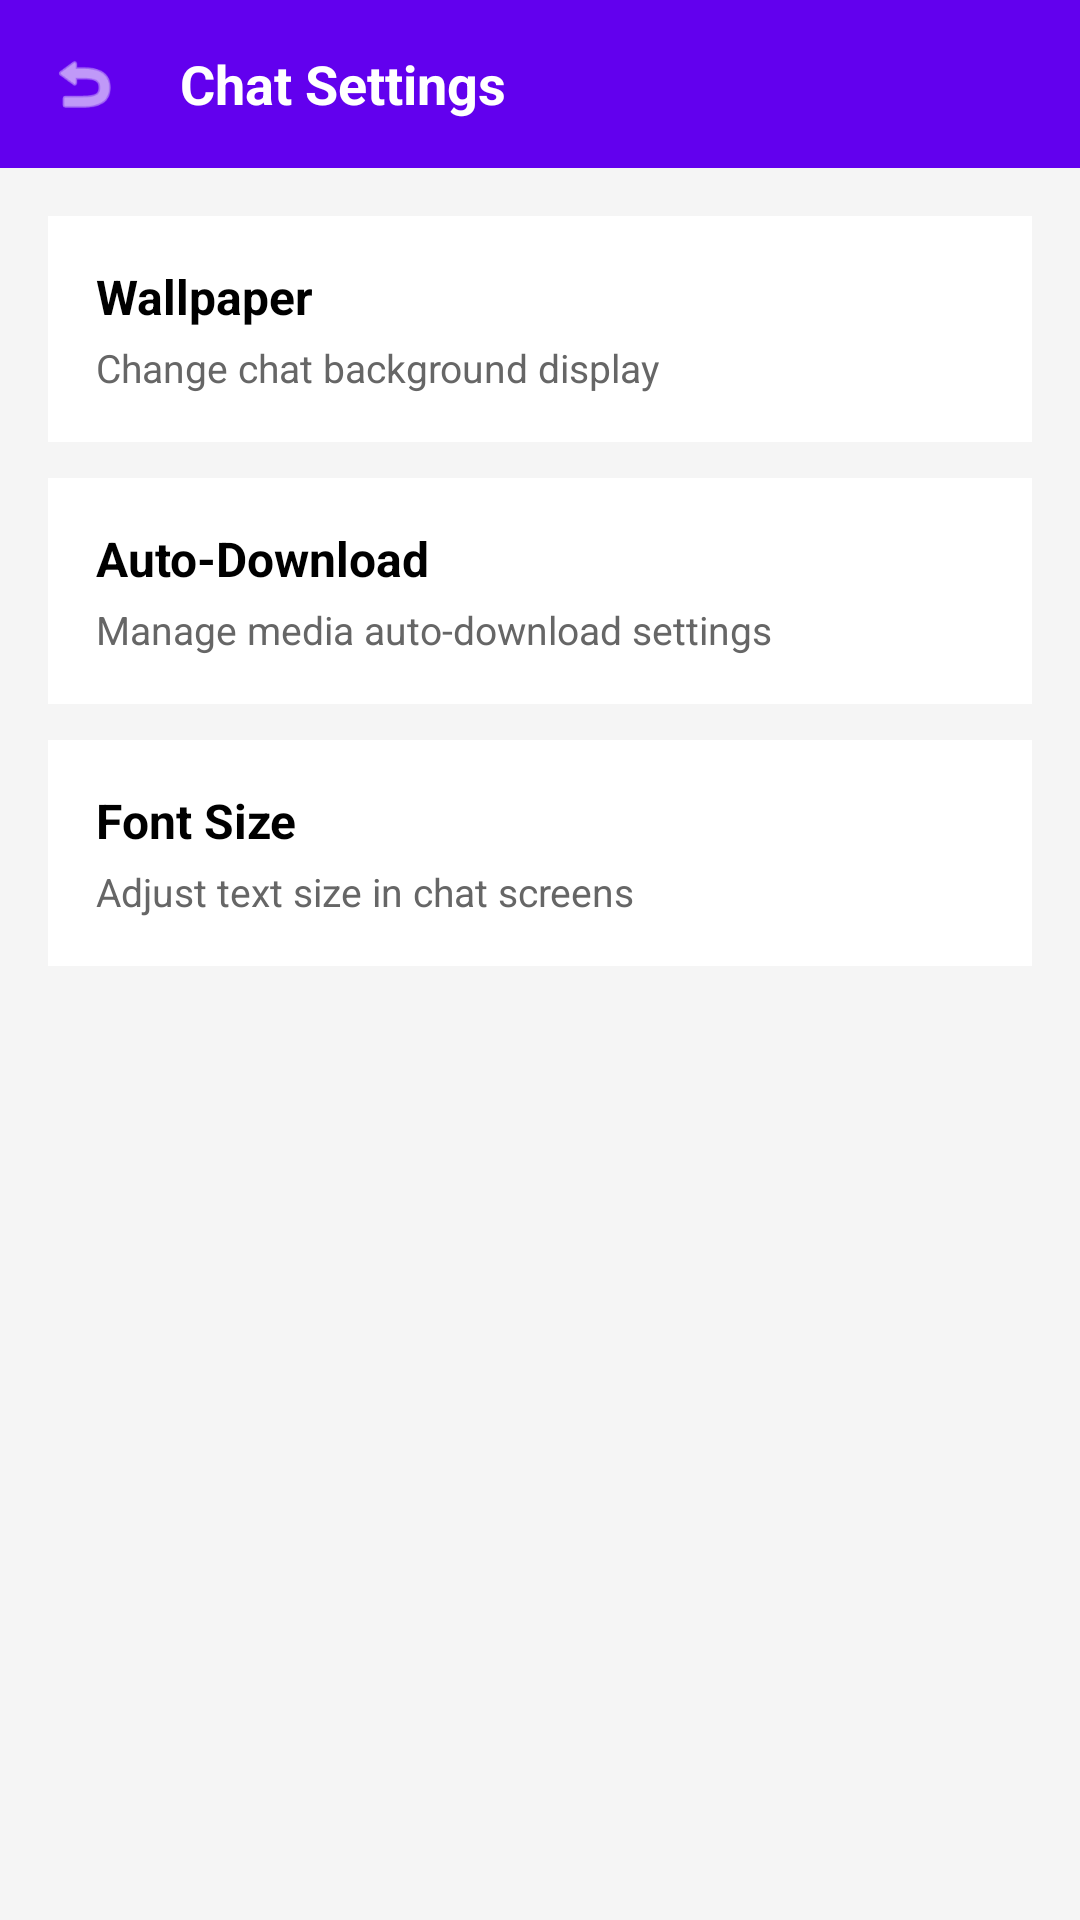

Icons on this 1080×1920 Android screen, each with its box as box(x1, y1, x2, y2):
Back: box(59, 61, 111, 108)
